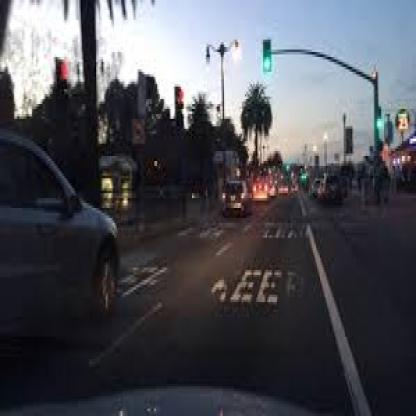car: (0, 112, 130, 344), (213, 163, 251, 225), (318, 164, 342, 209), (245, 165, 270, 208)
